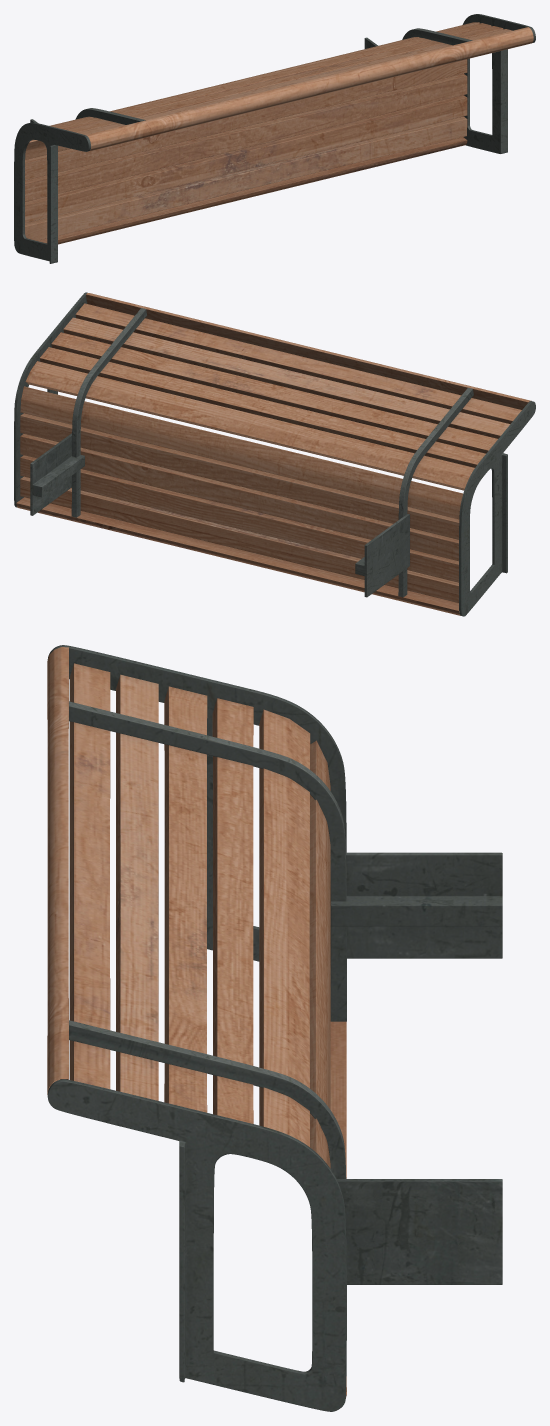
The model's file is ConcreteBench-L3.obj.
3 renders of one model, top to bottom at view 1: azimuth 30°, elevation 25°; view 2: azimuth 150°, elevation 25°; view 3: azimuth 270°, elevation 25°, orthographic. The views are drawn at different scales.
Parts seen in each view (by area): view 1: woodplanks ocncrete_bench, ocncrete_bench armrest2, ocncrete_bench beams; view 2: woodplanks ocncrete_bench, ocncrete_bench armrest2, ocncrete_bench feet, ocncrete_bench beams; view 3: woodplanks ocncrete_bench, ocncrete_bench armrest2, ocncrete_bench feet, ocncrete_bench beams.
Part boxes in pixels (x1=…): woodplanks ocncrete_bench: x1=25, y1=22, x2=533, y2=244; ocncrete_bench armrest2: x1=14, y1=14, x2=535, y2=263; ocncrete_bench beams: x1=75, y1=28, x2=472, y2=124; woodplanks ocncrete_bench: x1=16, y1=293, x2=531, y2=615; ocncrete_bench armrest2: x1=14, y1=292, x2=535, y2=616; ocncrete_bench feet: x1=30, y1=433, x2=409, y2=597; ocncrete_bench beams: x1=71, y1=308, x2=473, y2=597; woodplanks ocncrete_bench: x1=47, y1=647, x2=346, y2=1398; ocncrete_bench armrest2: x1=47, y1=645, x2=346, y2=1411; ocncrete_bench feet: x1=330, y1=852, x2=502, y2=1284; ocncrete_bench beams: x1=69, y1=701, x2=346, y2=1340.
Size of the model in its own units: 184 by 63.61 by 79.33.
Materials: 2 (2 with a texture image).
